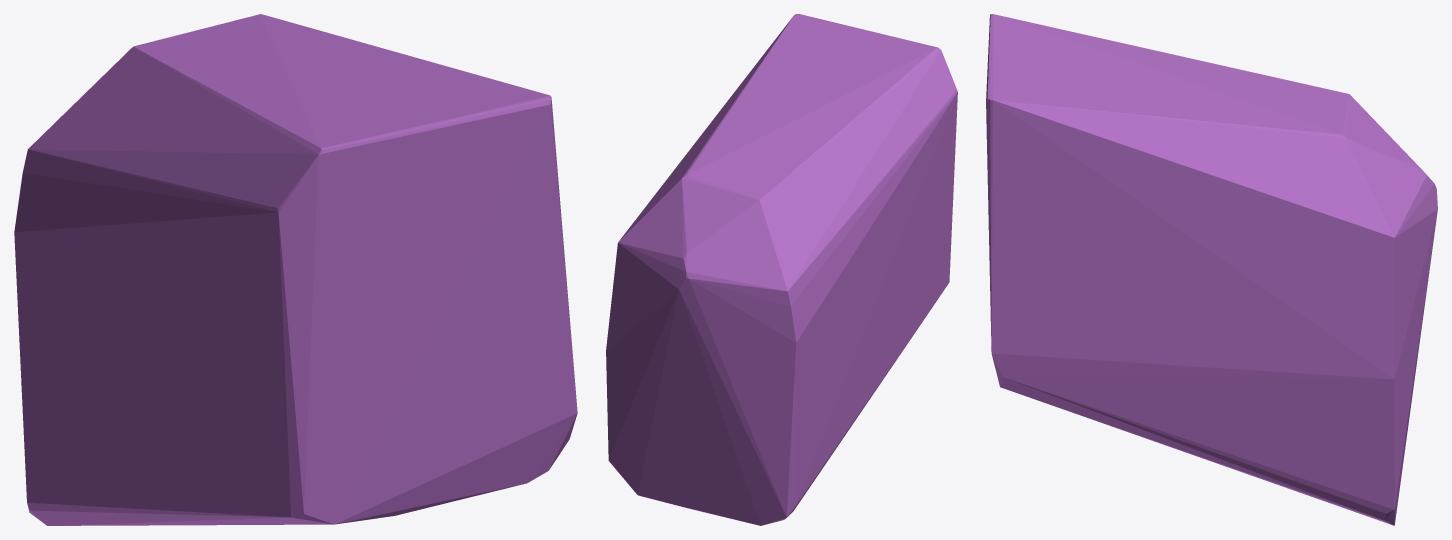
The model's file is container_recycle_blue_wheeled_a02.glb.
The picture shows the model from 3 angles, left to right: view 1: azimuth 30°, elevation 25°; view 2: azimuth 150°, elevation 25°; view 3: azimuth 270°, elevation 25°; orthographic projection. The views are drawn at different scales.
Parts seen in each view (by area): view 1: geometry_0; view 2: geometry_0; view 3: geometry_0.
Boxes of the visible parts, bbox=[...] form: geometry_0: bbox=[14, 14, 577, 525]; geometry_0: bbox=[606, 14, 957, 525]; geometry_0: bbox=[986, 14, 1437, 525].
Size of the model in its own units: 0.2654 by 0.4797 by 0.4513.
